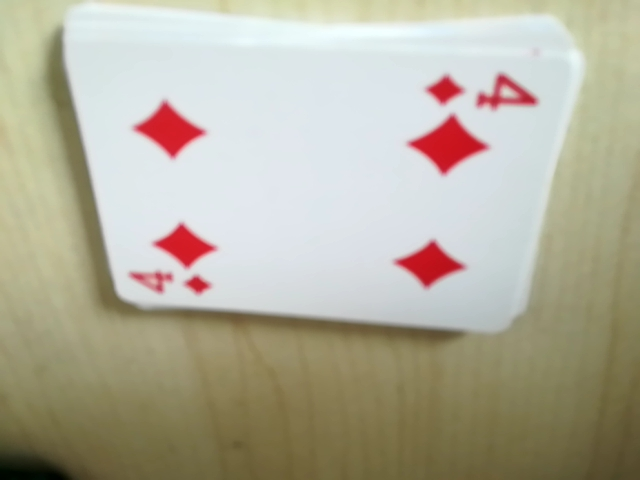fk 4: (416, 61, 549, 115), (117, 261, 222, 303)
